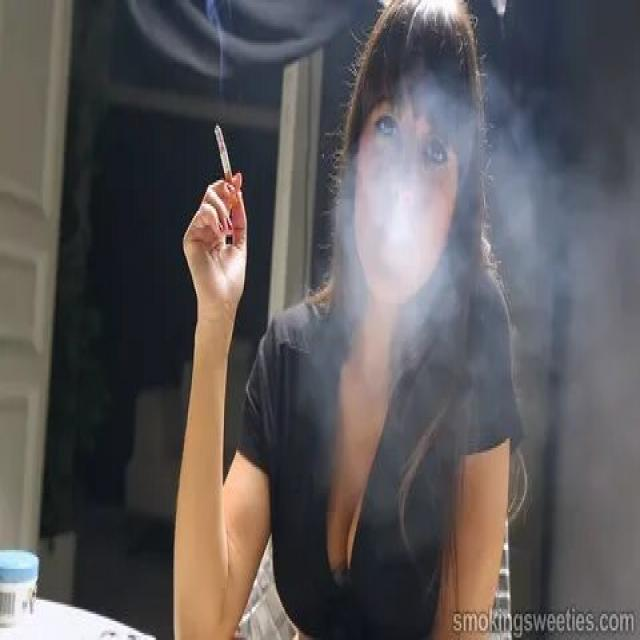cigarette: (212, 121, 241, 197)
